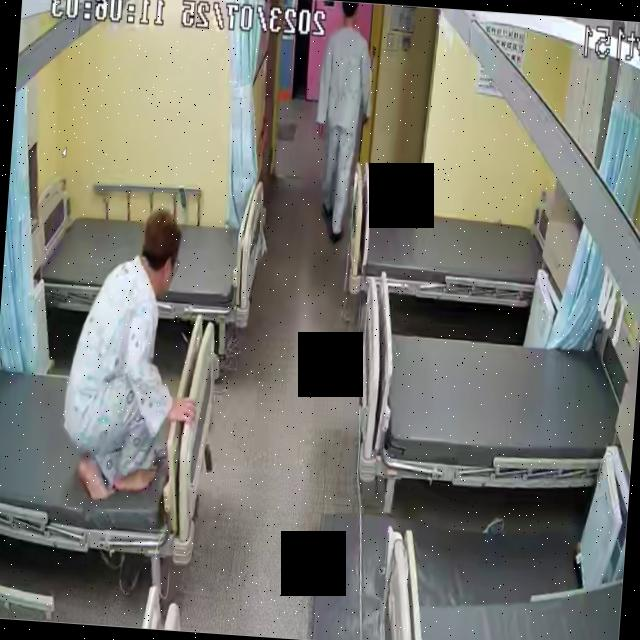bed: (0, 301, 220, 561), (352, 321, 625, 491), (23, 192, 266, 328), (348, 194, 543, 306)
danger: (58, 200, 204, 516)
patient: (57, 204, 204, 520), (304, 0, 378, 272)
